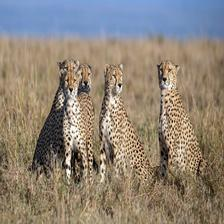Cheetah: (98, 61, 157, 194), (157, 59, 215, 192), (27, 58, 78, 183), (62, 67, 98, 188), (71, 61, 94, 189)
